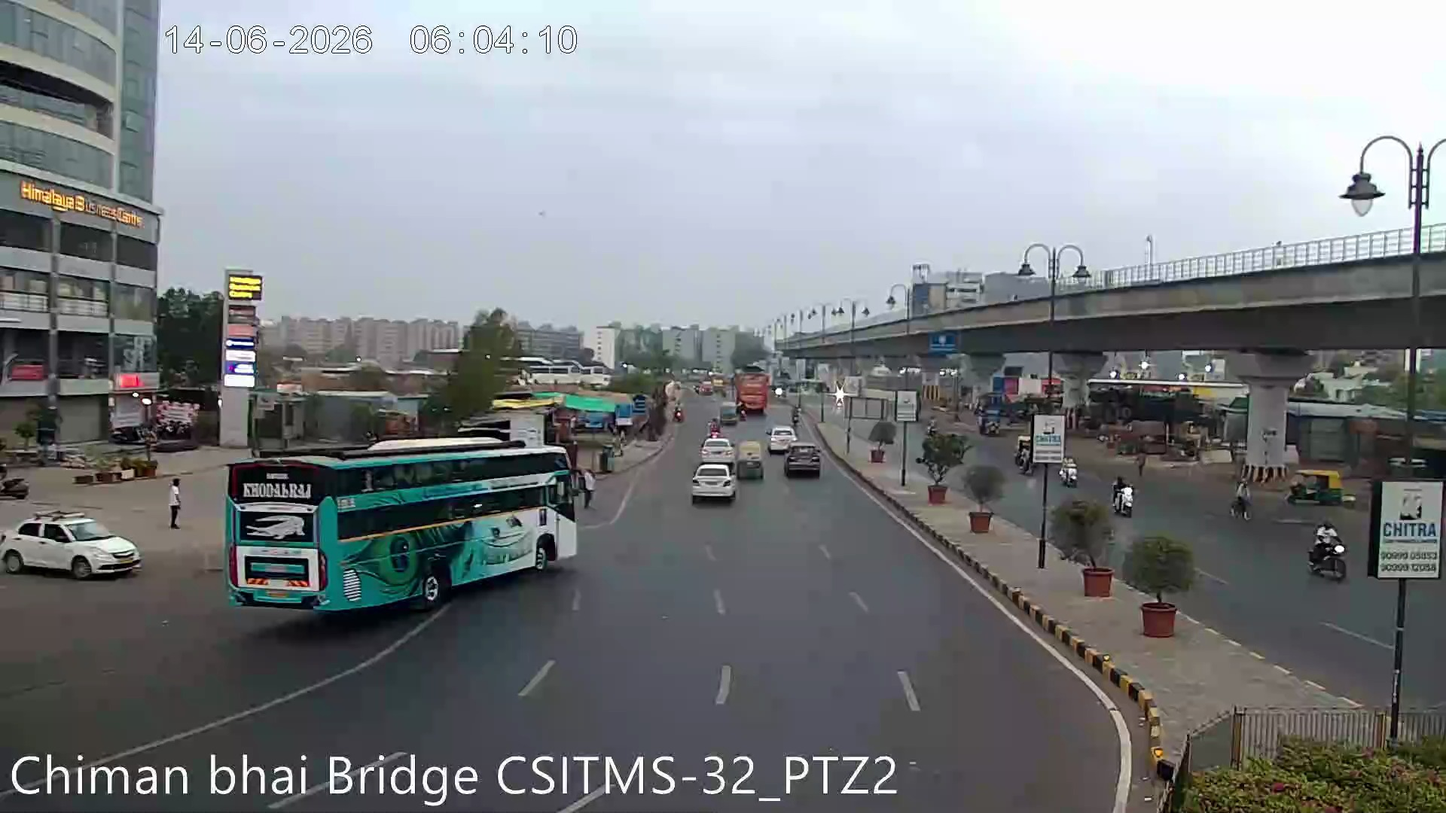auto_rickshaw: (1288, 464, 1347, 506), (739, 440, 765, 481)
bus: (210, 441, 593, 601), (735, 366, 770, 411)
car: (0, 502, 145, 585), (688, 458, 739, 506), (780, 443, 823, 481), (766, 422, 795, 450)
pedestrian: (162, 473, 186, 534), (1229, 474, 1254, 526)
two_wheeler: (1305, 516, 1349, 583), (1109, 472, 1138, 519), (1058, 451, 1081, 490)
